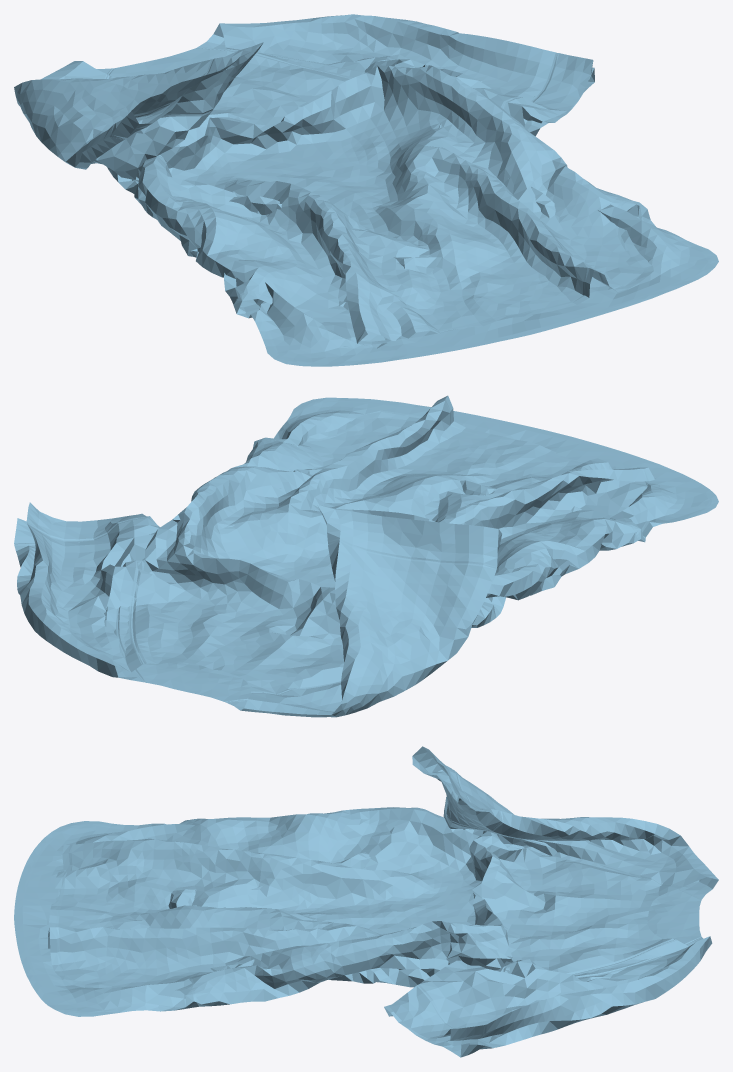
The model's file is frame_17.glb.
The picture shows the model from 3 angles, top to bottom: view 1: azimuth 30°, elevation 25°; view 2: azimuth 150°, elevation 25°; view 3: azimuth 270°, elevation 25°; orthographic projection. The views are drawn at different scales.
Parts seen in each view (by area): view 1: frame_17.obj; view 2: frame_17.obj; view 3: frame_17.obj.
Boxes of the visible parts, x1,y1,x2,y2 form: frame_17.obj: [14, 14, 718, 366]; frame_17.obj: [14, 395, 718, 717]; frame_17.obj: [14, 746, 718, 1057].
Size of the model in its own units: 1.44 by 0.3108 by 1.83.
